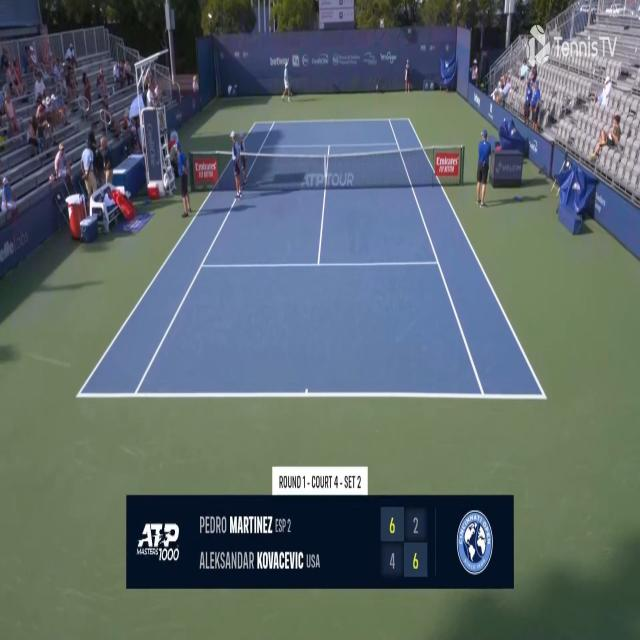tennis-player: (282, 60, 294, 104)
